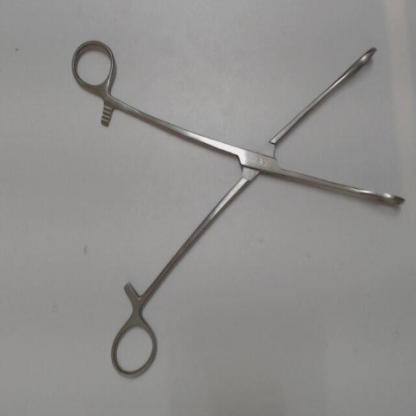Sponge Forceps: (67, 32, 412, 386)
